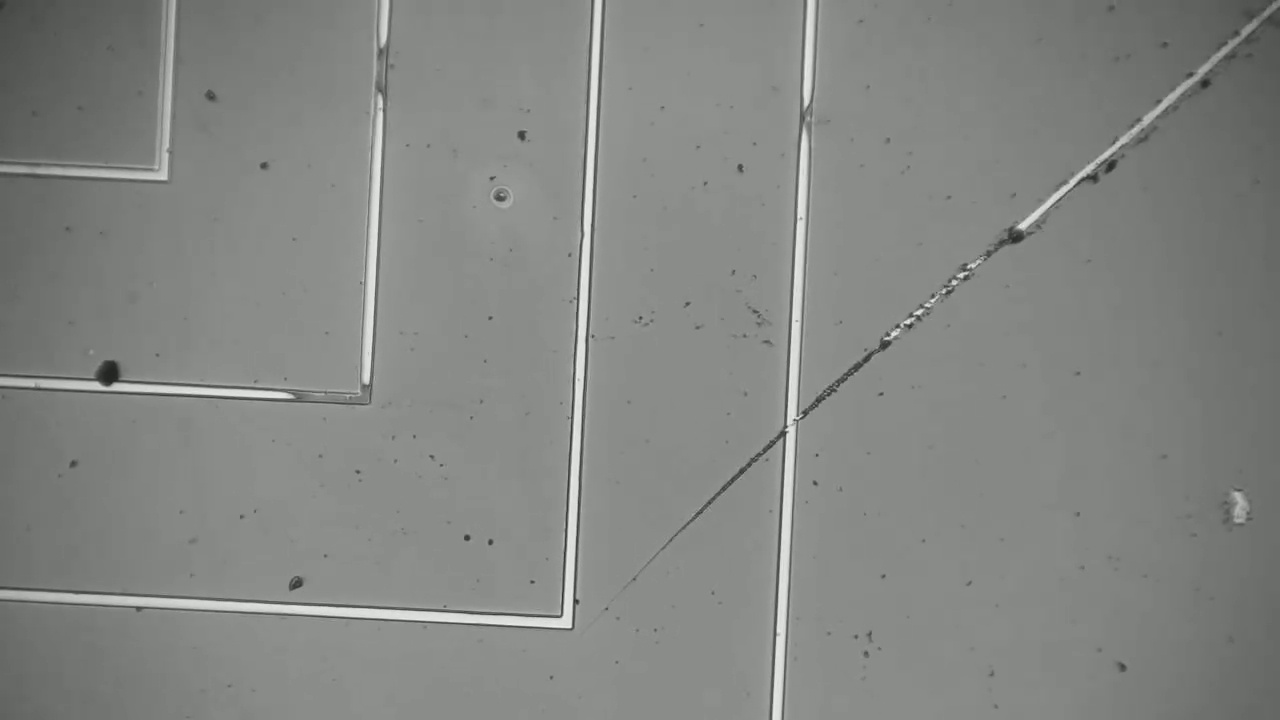gray_line: (264, 375, 398, 422), (356, 27, 404, 113), (782, 74, 831, 151), (338, 353, 385, 425)
scratch: (592, 4, 1279, 616)
